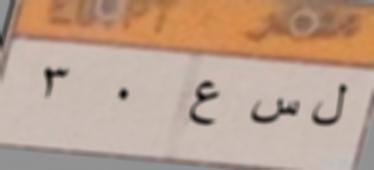0: (111, 79, 138, 106)
3: (34, 64, 79, 100)
ain: (185, 74, 227, 132)
laam: (310, 78, 350, 130)
seen: (248, 94, 307, 129)
